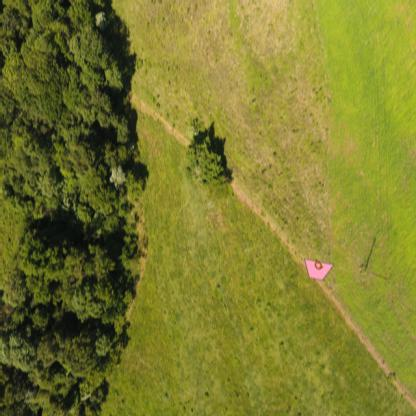Q: (313, 260, 325, 271)
trapezium: (304, 258, 334, 281)
